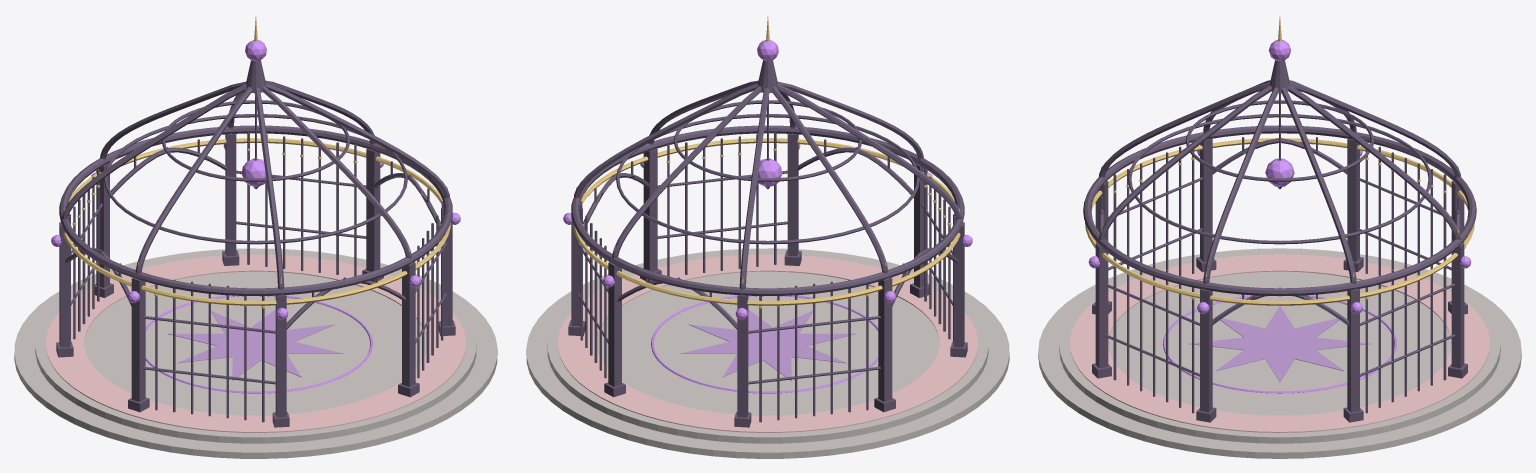
File: HOB_TaggerGazebo.fbx
3 renders of one model, left to right at view 1: azimuth 30°, elevation 25°; view 2: azimuth 150°, elevation 25°; view 3: azimuth 270°, elevation 25°, orthographic.
Parts seen in each view (by area): view 1: HOB_TaggerGazebo; view 2: HOB_TaggerGazebo; view 3: HOB_TaggerGazebo.
Part boxes in pixels (<box>): HOB_TaggerGazebo: <box>14,16,497,458</box>; HOB_TaggerGazebo: <box>526,16,1009,458</box>; HOB_TaggerGazebo: <box>1038,16,1521,458</box>.
Bounding box in the file's own units: 1380 × 1080 × 1380.
